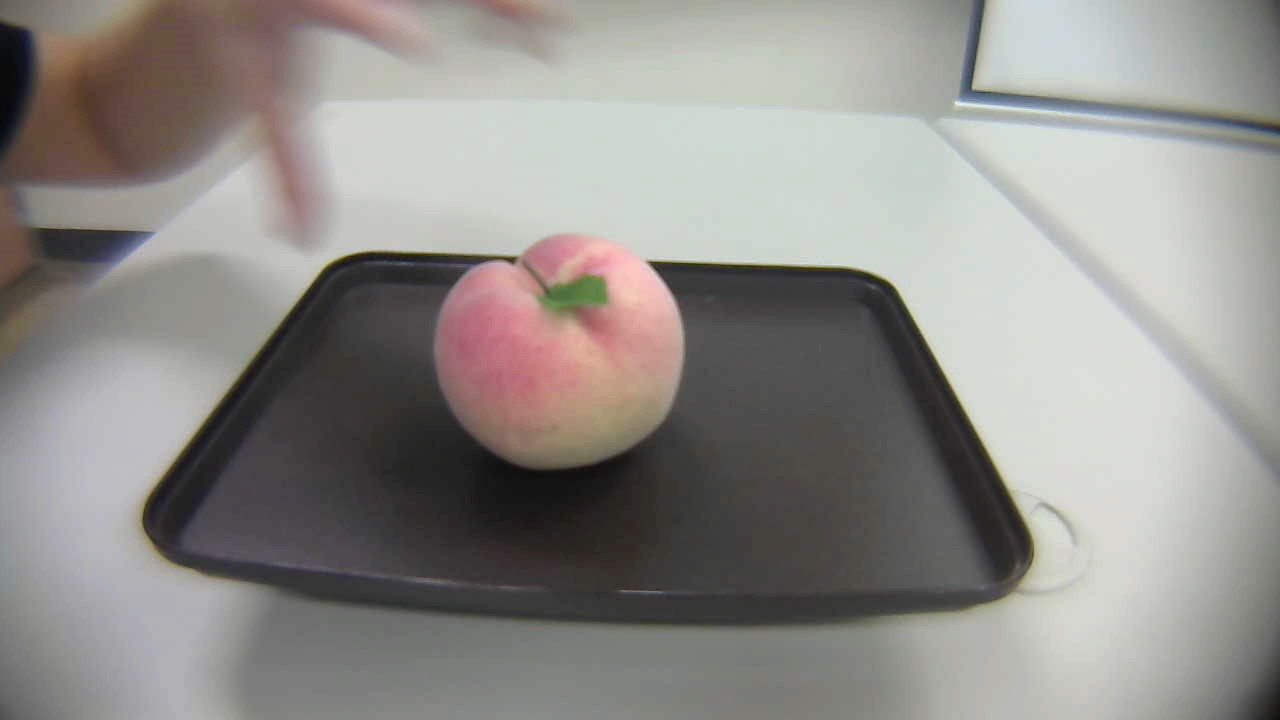peach: (430, 232, 691, 469)
